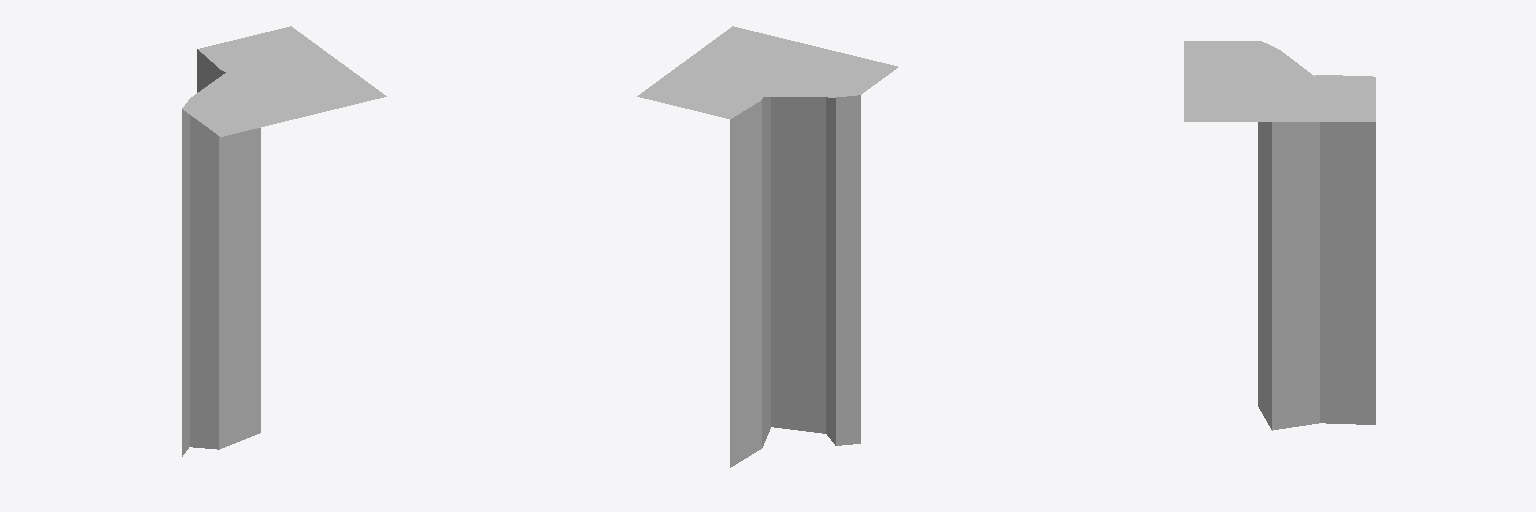
File: hole_2.obj
3 views of the same model, side by side, from view 1: azimuth 30°, elevation 25°; view 2: azimuth 150°, elevation 25°; view 3: azimuth 270°, elevation 25° (orthographic).
Parts seen in each view (by area): view 1: Cube_Cube.002; view 2: Cube_Cube.002; view 3: Cube_Cube.002.
Boxes of the visible parts, <box> form: Cube_Cube.002: <box>182,26,386,456</box>; Cube_Cube.002: <box>637,26,897,467</box>; Cube_Cube.002: <box>1184,41,1375,430</box>.
Size of the model in its own units: 4 by 8 by 4.